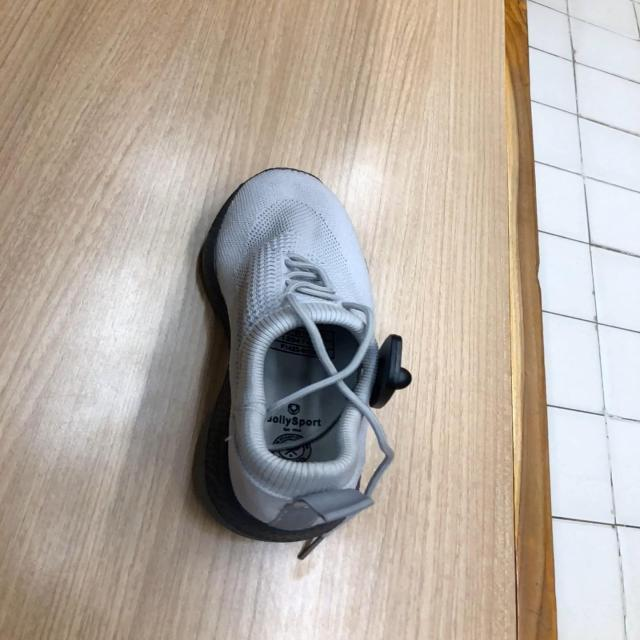shoe: (196, 168, 412, 556)
